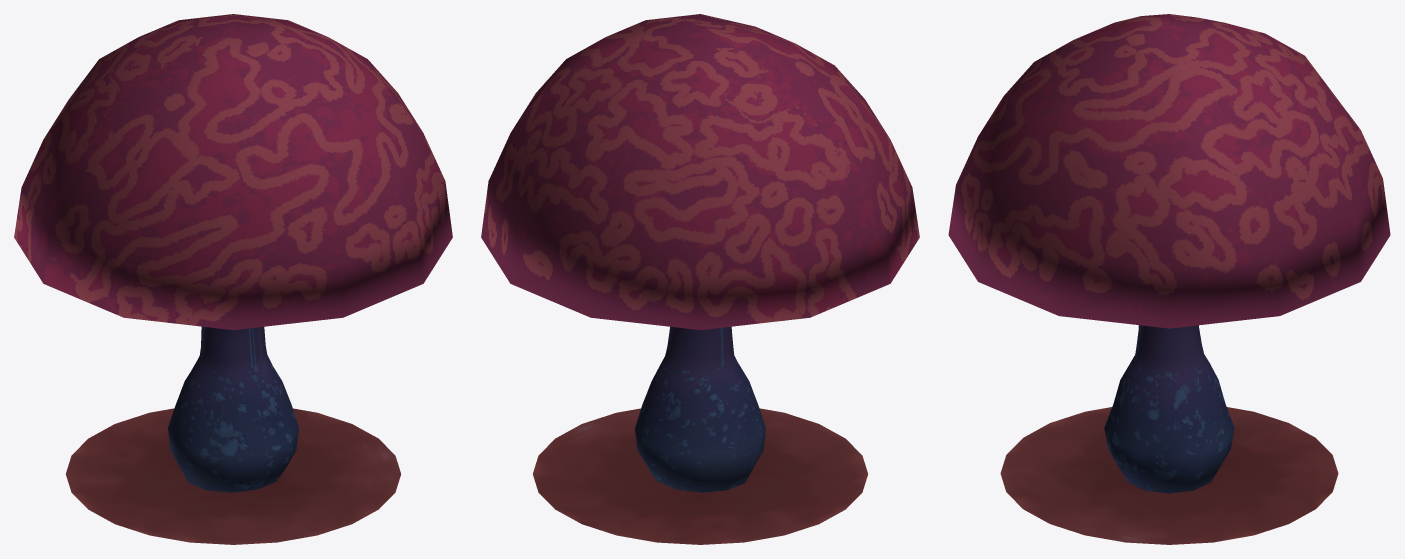
The model's file is mushroom try1 .fbx.
3 views of the same model, side by side, from view 1: azimuth 30°, elevation 25°; view 2: azimuth 150°, elevation 25°; view 3: azimuth 270°, elevation 25° (orthographic).
Visible parts, largest first — view 1: pSphere1, pDisc2; view 2: pSphere1, pDisc2; view 3: pSphere1, pDisc2.
Boxes of the visible parts, x1,y1,x2,y2 form: pSphere1: (14,14,452,492); pDisc2: (66,408,400,544); pSphere1: (481,14,919,492); pDisc2: (533,408,867,544); pSphere1: (948,14,1390,493); pDisc2: (1000,407,1338,544).
Size of the model in its own units: 271 by 302 by 271.
